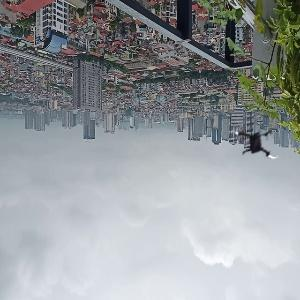drone: (229, 114, 286, 171)
